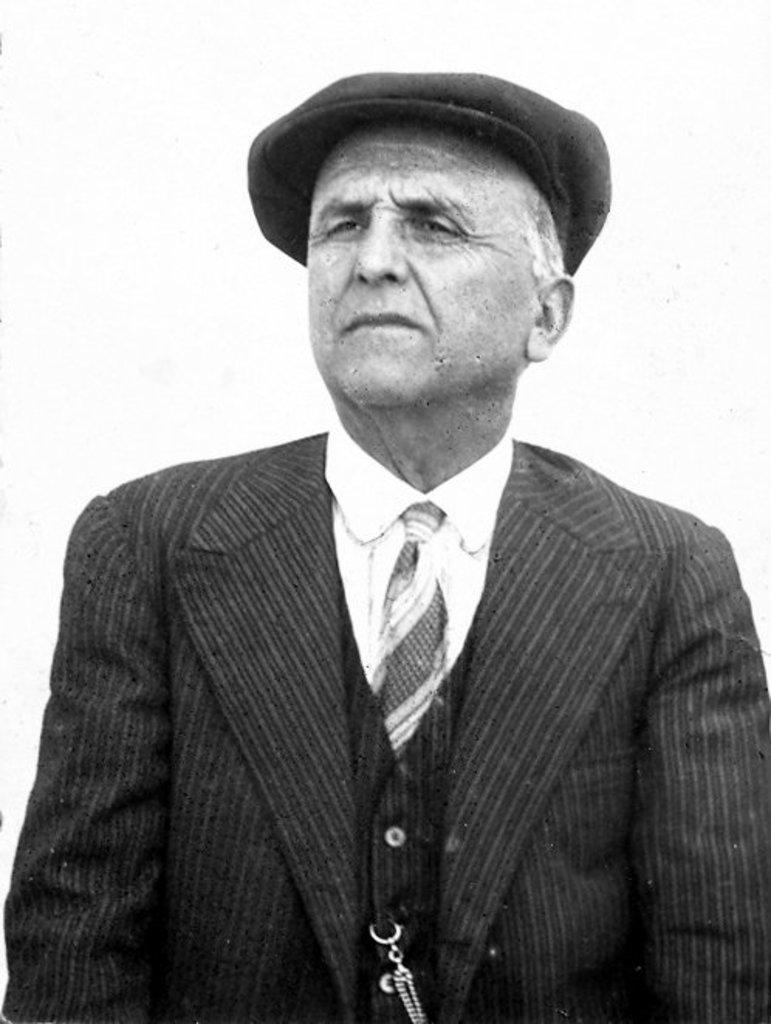Hat: (238, 69, 610, 272)
